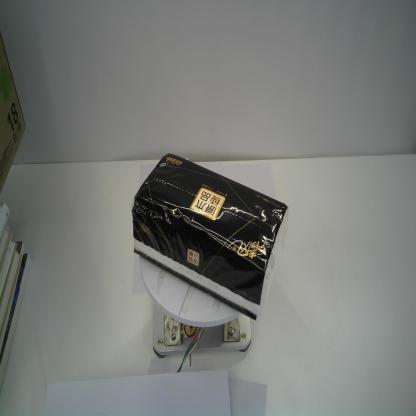Tissue: (129, 152, 289, 322)
